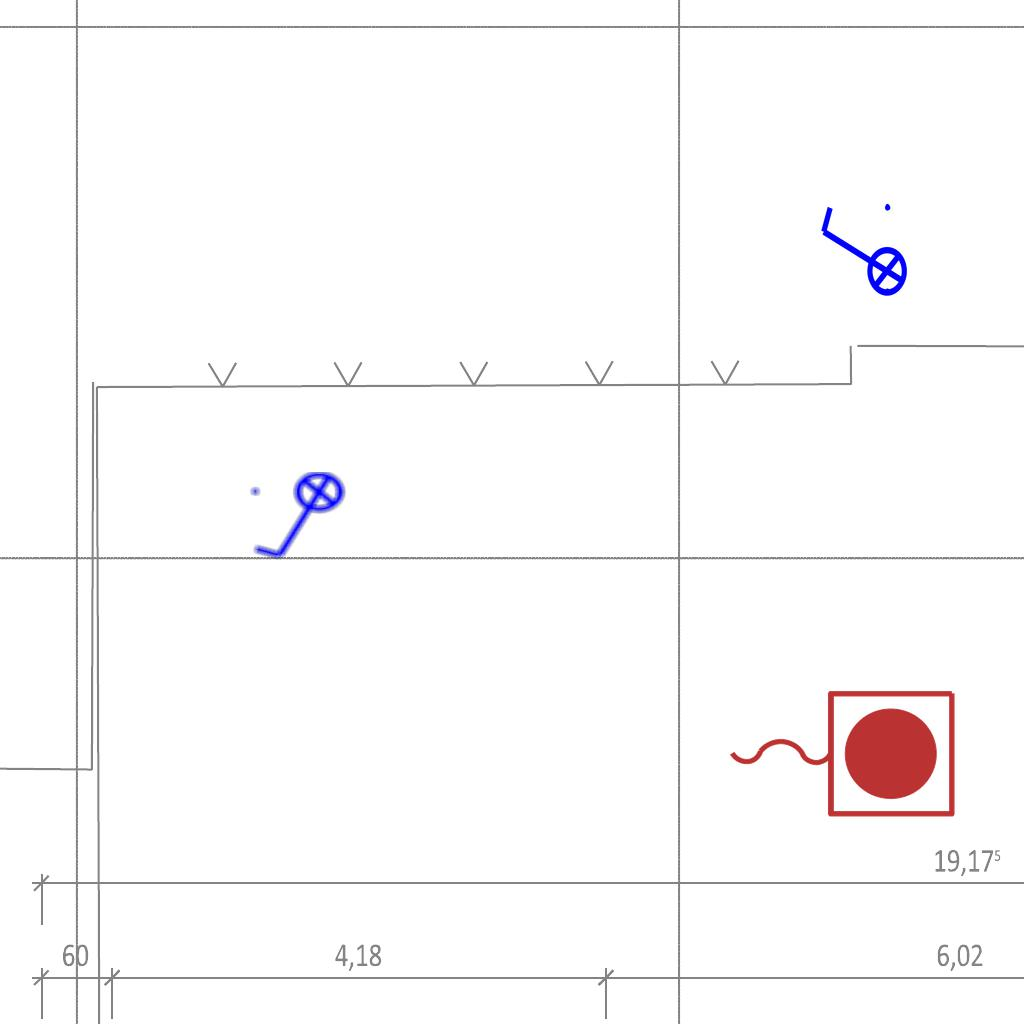Ausschalter_beleuchtet: (813, 198, 909, 310), (246, 470, 358, 566)
Zugtaster: (719, 680, 963, 824)
